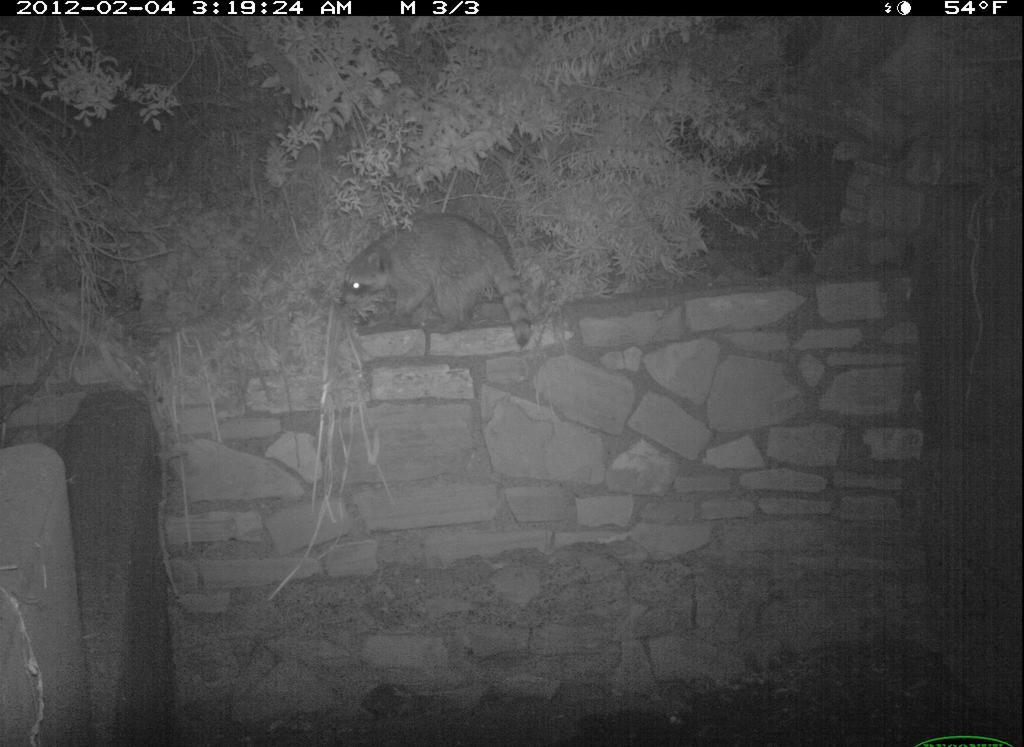raccoon: (329, 208, 541, 354)
